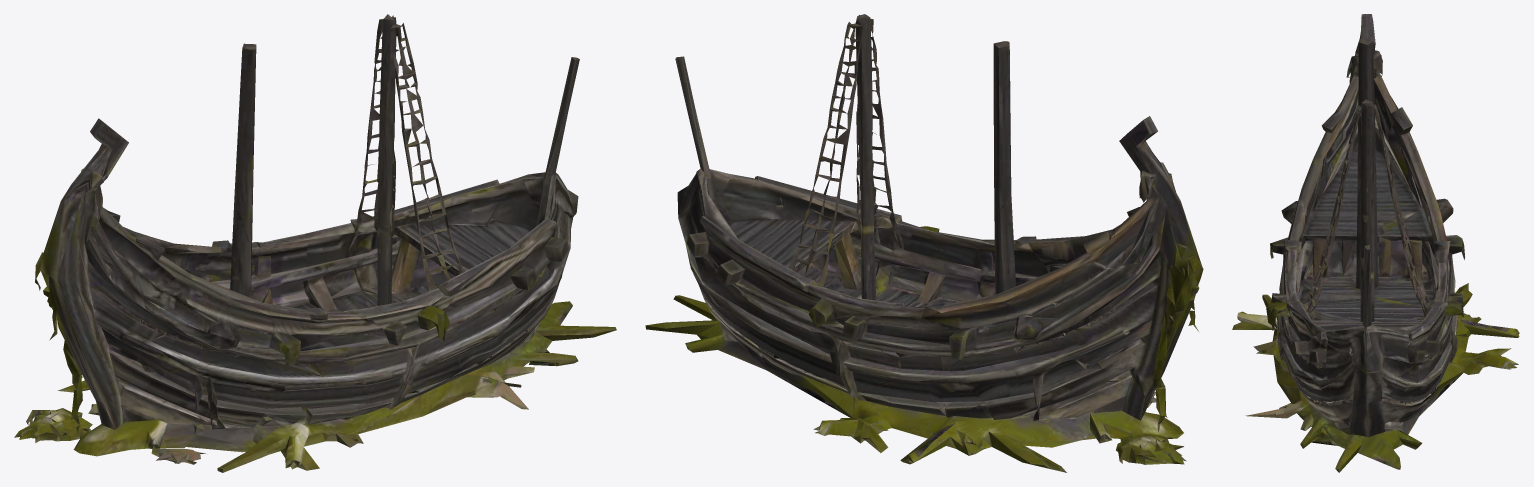
Rendered from shipwreck-bow.glb.
3 views of the same model, side by side, from view 1: azimuth 30°, elevation 25°; view 2: azimuth 150°, elevation 25°; view 3: azimuth 270°, elevation 25° (orthographic). The views are drawn at different scales.
Size of the model in its own units: 1.89 by 1.16 by 1.03.
Materials: 1 (1 with a texture image).
